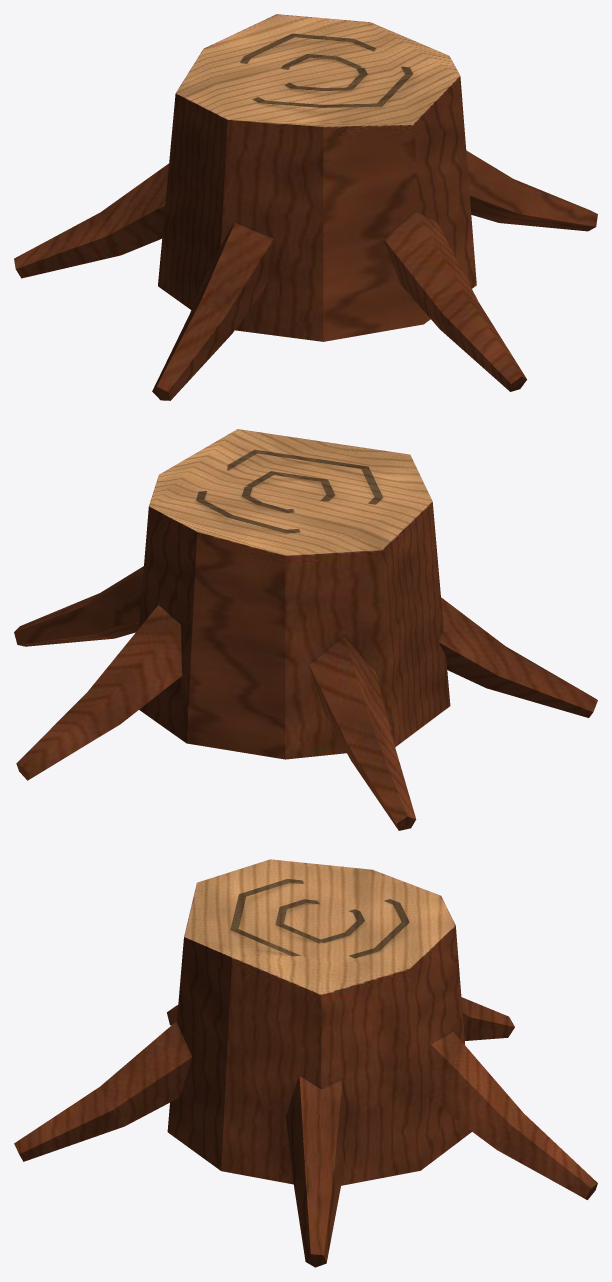
Rendered from stump_idle.glb.
The picture shows the model from 3 angles, top to bottom: view 1: azimuth 30°, elevation 25°; view 2: azimuth 150°, elevation 25°; view 3: azimuth 270°, elevation 25°; orthographic projection.
Parts seen in each view (by area): view 1: stump; view 2: stump; view 3: stump.
Part boxes in pixels (bbox=[...]): stump: bbox=[14, 14, 597, 400]; stump: bbox=[14, 429, 597, 830]; stump: bbox=[14, 859, 597, 1267].
Size of the model in its own units: 1.05 by 0.45 by 1.05.
1 material, 1 textured.
